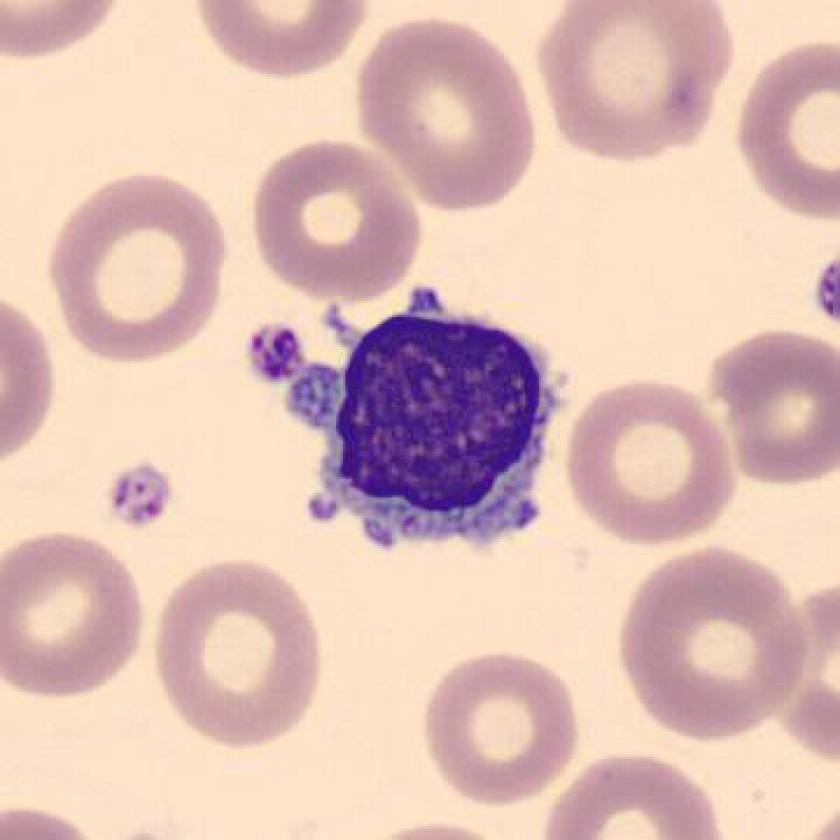lymphocyte: (277, 279, 585, 570)
platelets: (279, 357, 357, 429), (106, 459, 182, 531), (246, 324, 306, 382), (809, 258, 840, 327)
